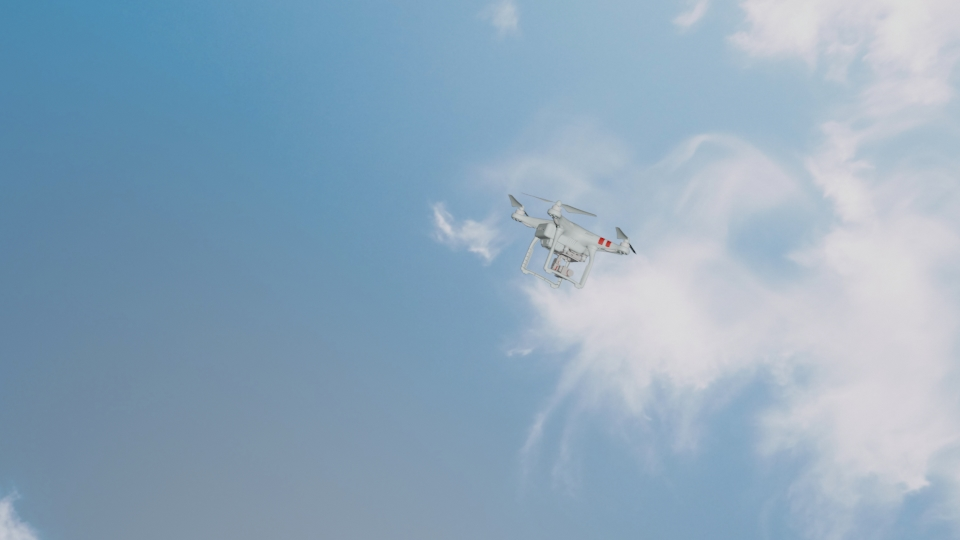drone: (505, 191, 637, 287)
